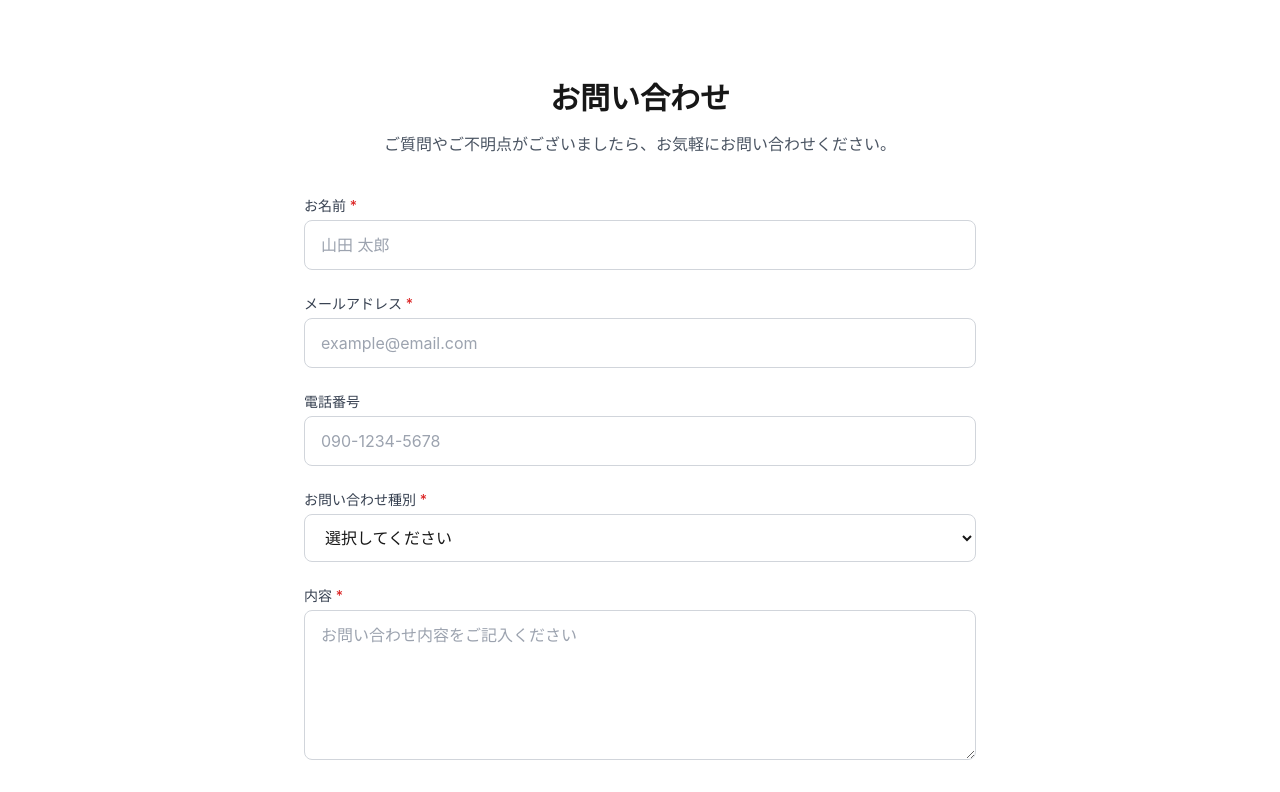
Test: 送信APIがエラーレスポンス → エラーメッセージをトーストで表示する
In the field labelled "お名前 *": (640, 245) [304, 220, 976, 270], type "山田太郎"
In the field labelled "メールアドレス *": (640, 343) [304, 318, 976, 368], type "test@example.com"
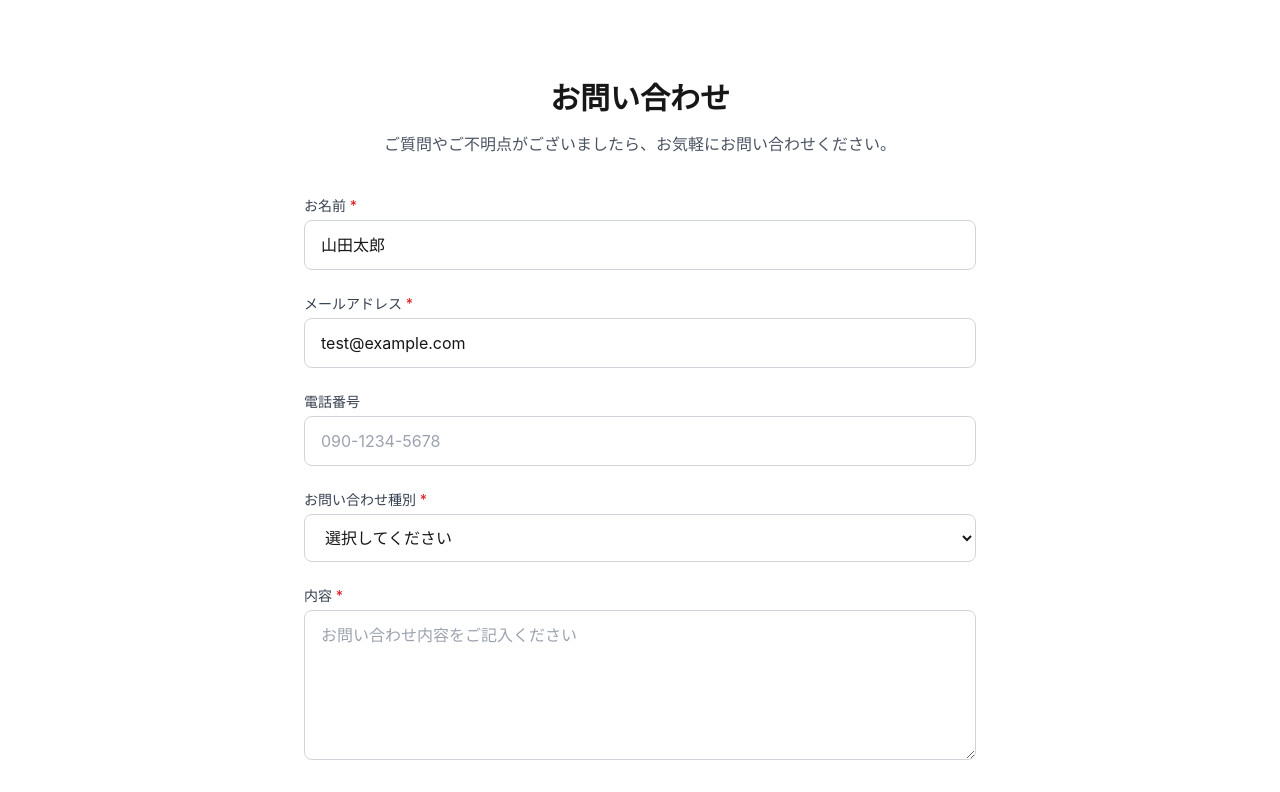
Select "その他" in the dropdown labelled "お問い合わせ種別 *": (640, 538) [304, 514, 976, 562]
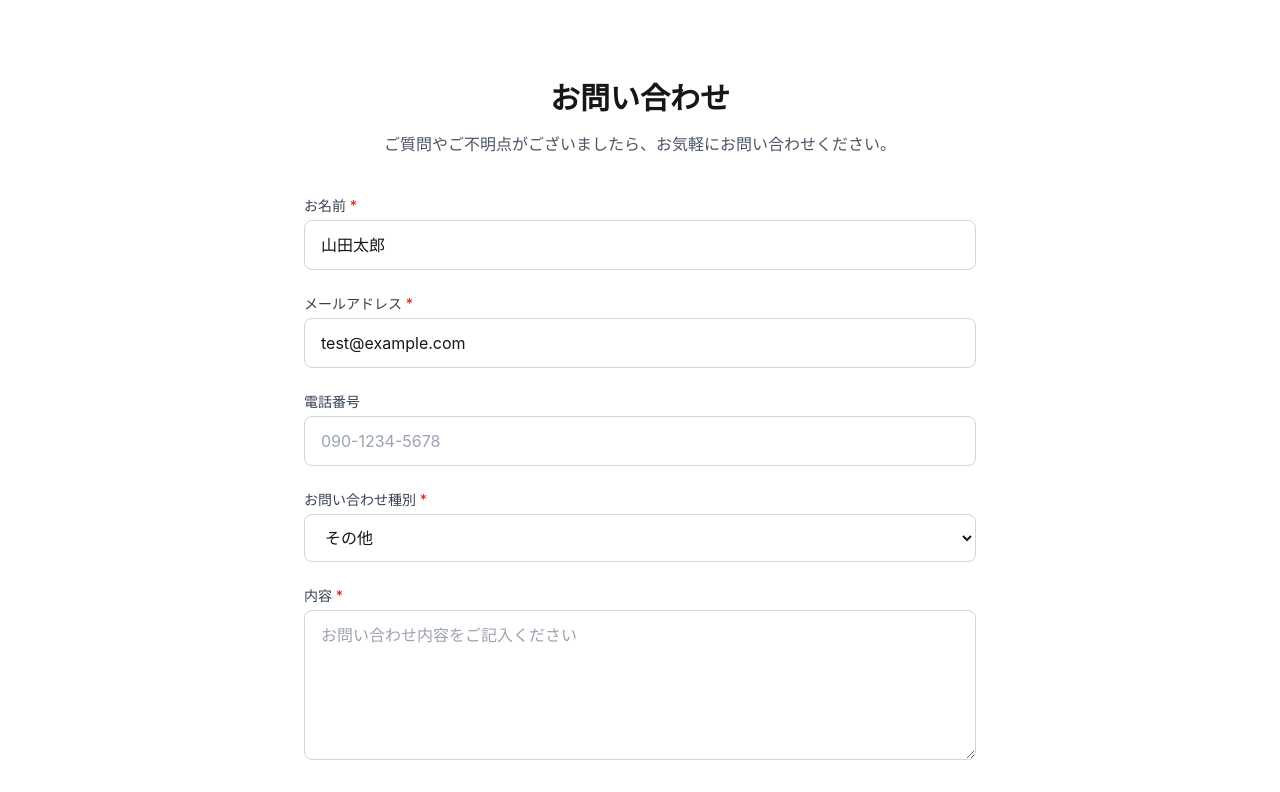
In the text box labelled "内容 *": (640, 685) [304, 610, 976, 760], type "テスト内容です。"
(page scrolled)
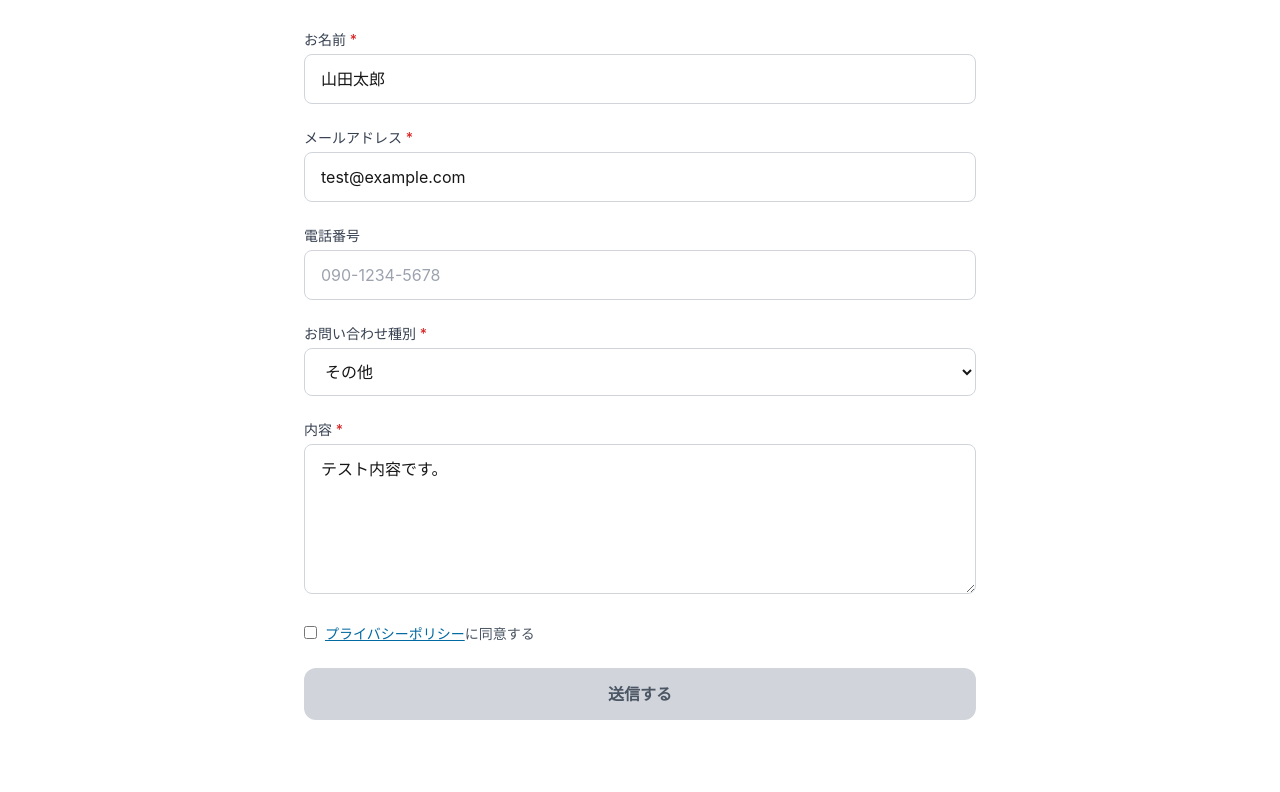
Click the checkbox: (310, 632) [304, 626, 317, 639]
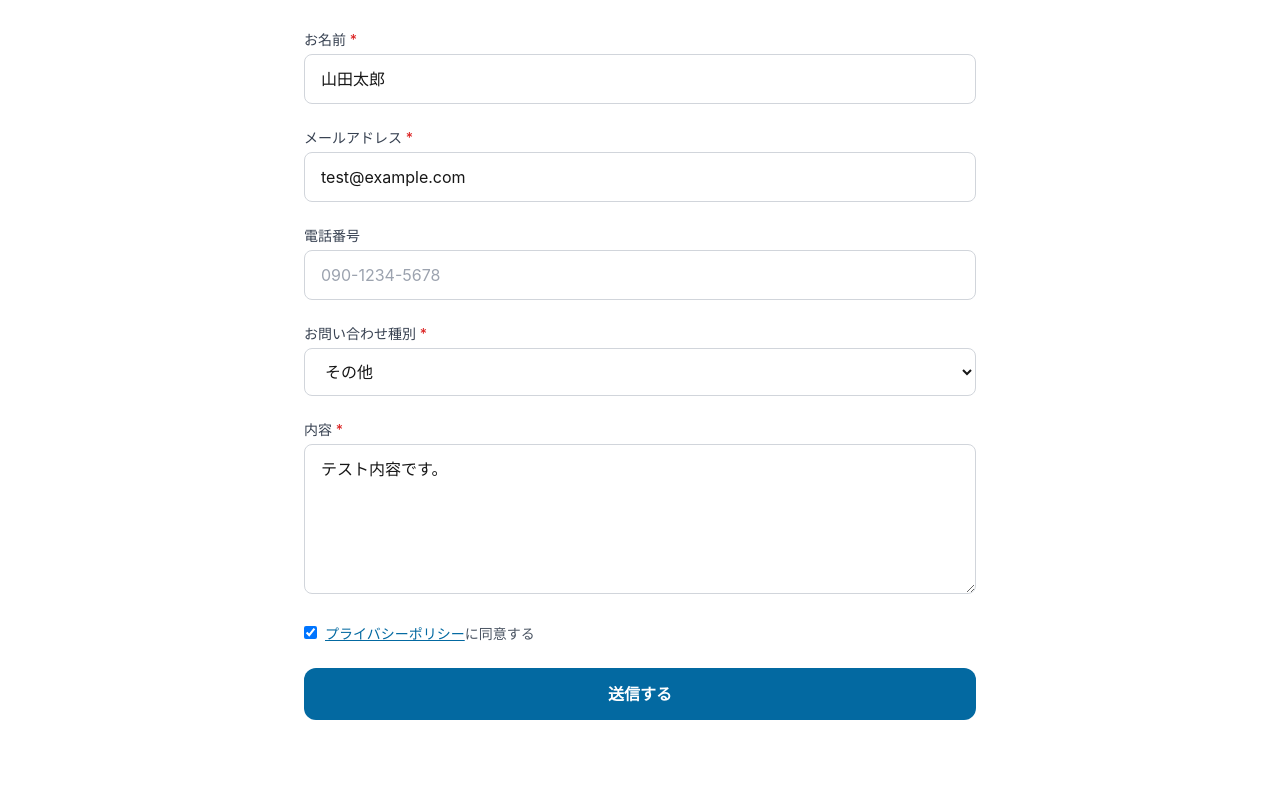
Click the button "送信する": (640, 694) [304, 668, 976, 720]
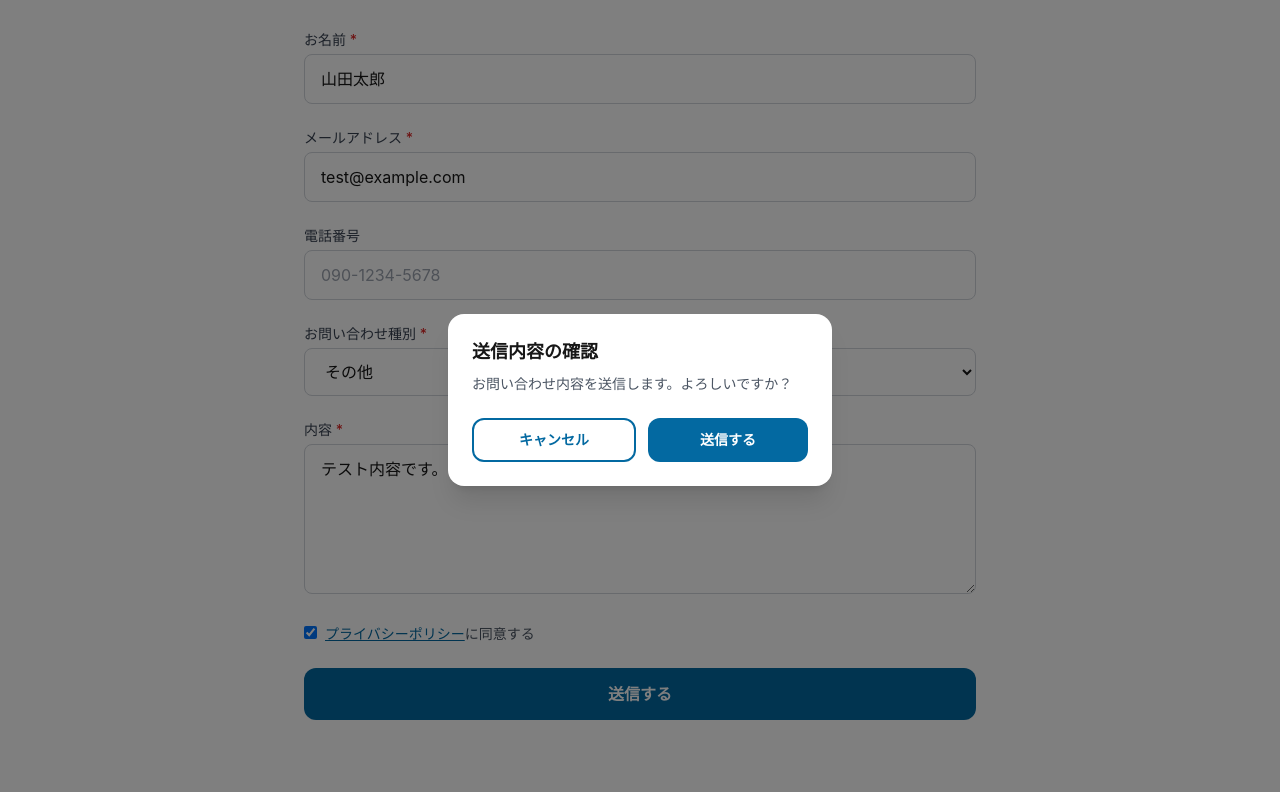
Click the button "送信する": (728, 440) [648, 418, 808, 462]
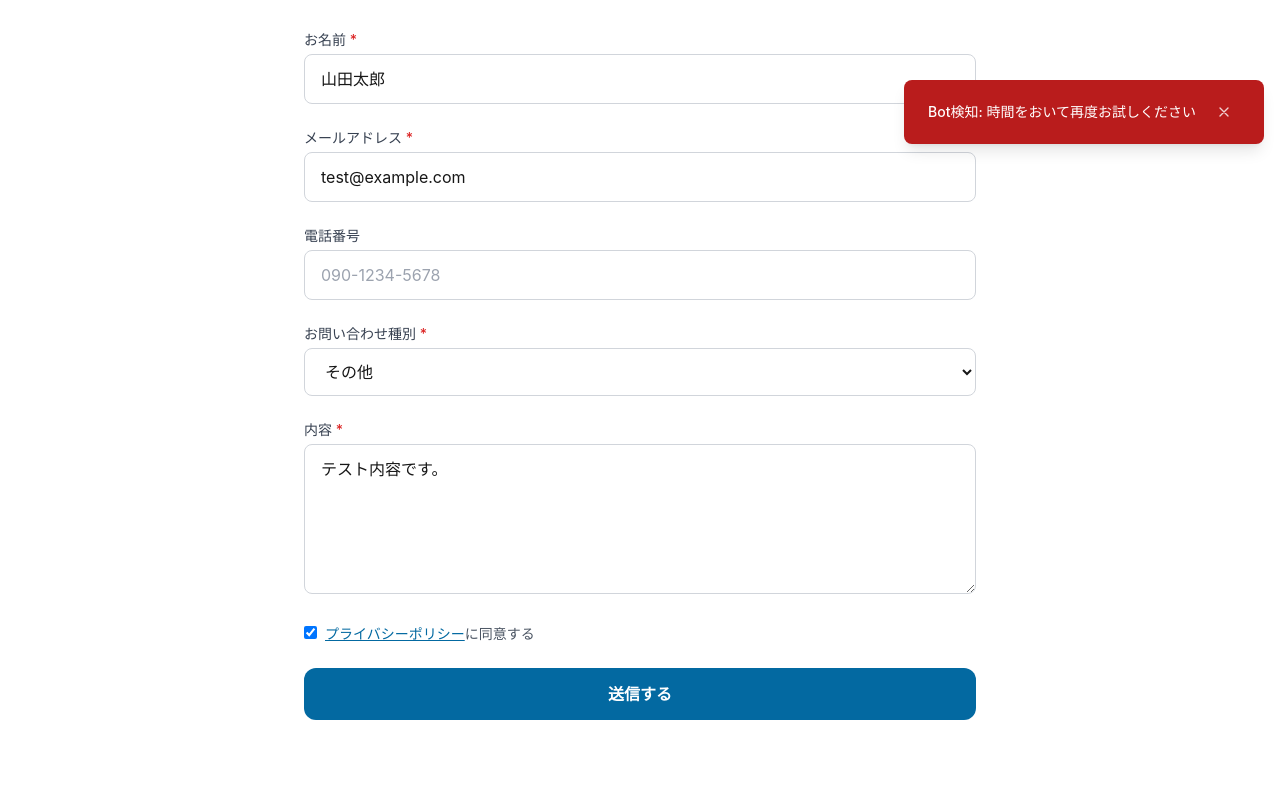
Expected: the text "Bot検知: 時間をおいて再度お試しください" is shown, [928, 102, 1196, 122]
